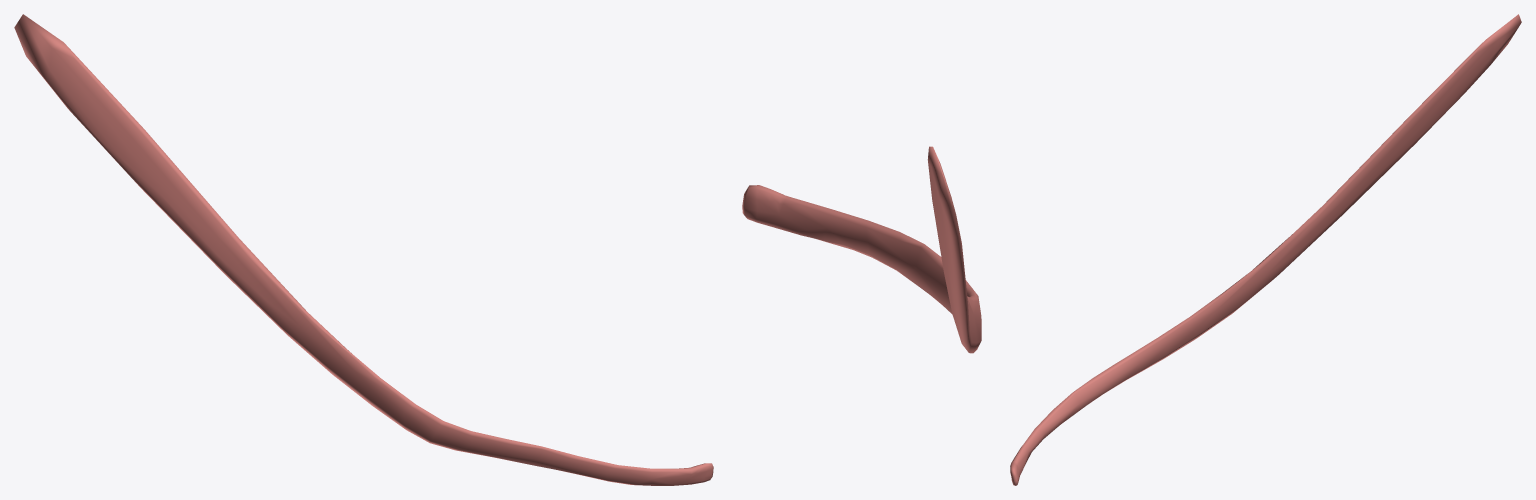
The picture shows the model from 3 angles, left to right: view 1: azimuth 30°, elevation 25°; view 2: azimuth 150°, elevation 25°; view 3: azimuth 270°, elevation 25°; orthographic projection. The views are drawn at different scales.
Parts seen in each view (by area): view 1: ZA_1202420619cd129c; view 2: ZA_1202420619cd129c; view 3: ZA_1202420619cd129c.
Boxes of the visible parts, box(x1,y1,x2,y2) form: ZA_1202420619cd129c: box(14, 14, 713, 485); ZA_1202420619cd129c: box(742, 146, 981, 353); ZA_1202420619cd129c: box(1010, 14, 1521, 485).
Bounding box in the file's own units: 0.0262 × 0.0216 × 0.0329.
